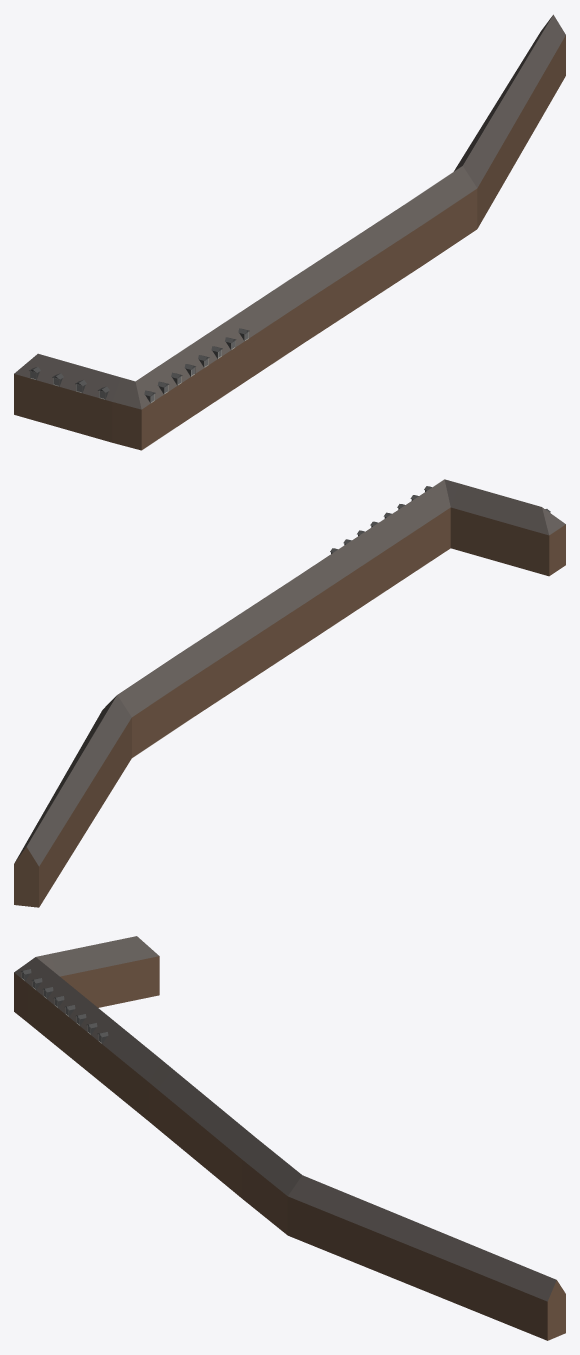
The model's file is Marineterrein_buildings.fbx.
3 views of the same model, one above another, from view 1: azimuth 30°, elevation 25°; view 2: azimuth 210°, elevation 25°; view 3: azimuth 270°, elevation 25° (orthographic). The views are drawn at different scales.
Visible parts, largest first — view 1: Marineterrein_exterior_building, dormer.001; view 2: Marineterrein_exterior_building; view 3: Marineterrein_exterior_building, dormer.001.
Part boxes in pixels (<box>): Marineterrein_exterior_building: <box>14,14,565,450</box>; dormer.001: <box>144,328,249,403</box>; Marineterrein_exterior_building: <box>14,479,565,907</box>; Marineterrein_exterior_building: <box>14,936,565,1340</box>; dormer.001: <box>21,969,108,1043</box>.
Size of the model in its own units: 14775 by 1113 by 9670.
